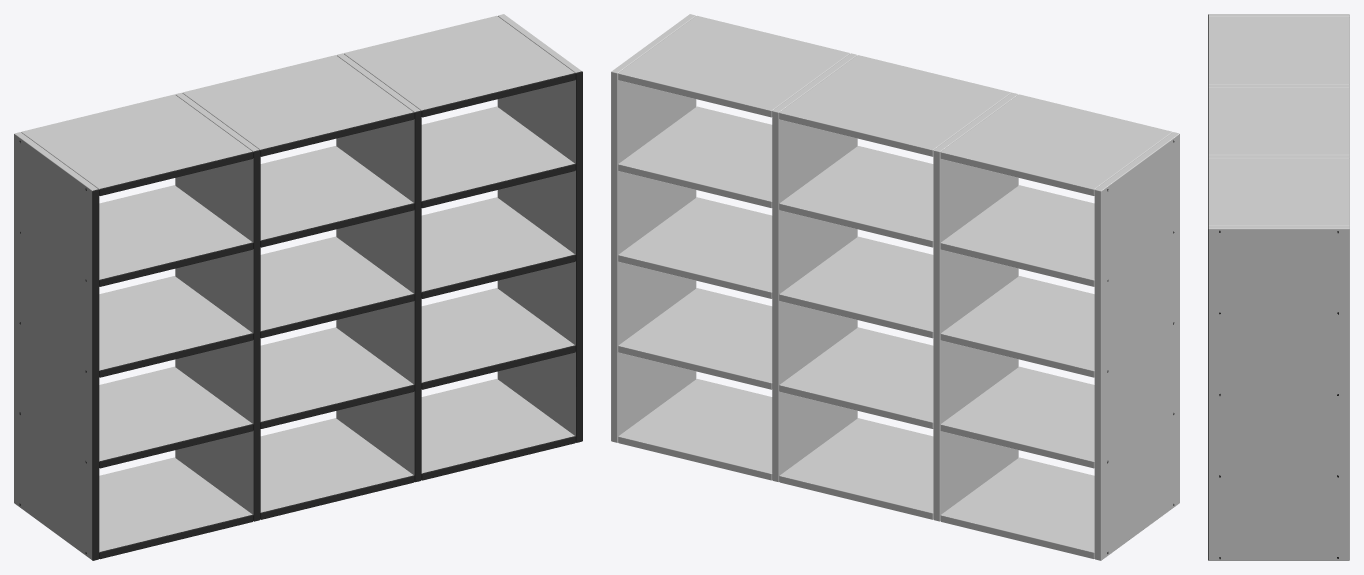
The model's file is library1.gltf.
The picture shows the model from 3 angles, left to right: view 1: azimuth 30°, elevation 25°; view 2: azimuth 150°, elevation 25°; view 3: azimuth 270°, elevation 25°; orthographic projection. The views are drawn at different scales.
Visible parts, largest first — view 1: SM_Library01; view 2: SM_Library01; view 3: SM_Library01.
Part boxes in pixels (x1,y1,x2,y2): SM_Library01: [14, 14, 582, 560]; SM_Library01: [611, 14, 1179, 560]; SM_Library01: [1208, 14, 1349, 560].
Bounding box in the file's own units: 1.4 × 1.01 × 0.3907.
Materials: 3 (1 with a texture image).
